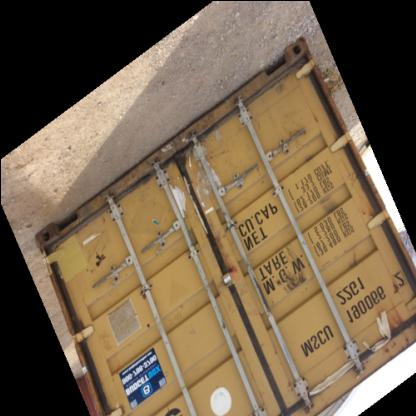Damage: (160, 140, 210, 238), (249, 98, 310, 148), (370, 302, 414, 359), (80, 240, 130, 285), (154, 298, 198, 346), (95, 319, 134, 366), (276, 373, 323, 409), (276, 248, 306, 302), (323, 240, 361, 276), (306, 186, 343, 218)
